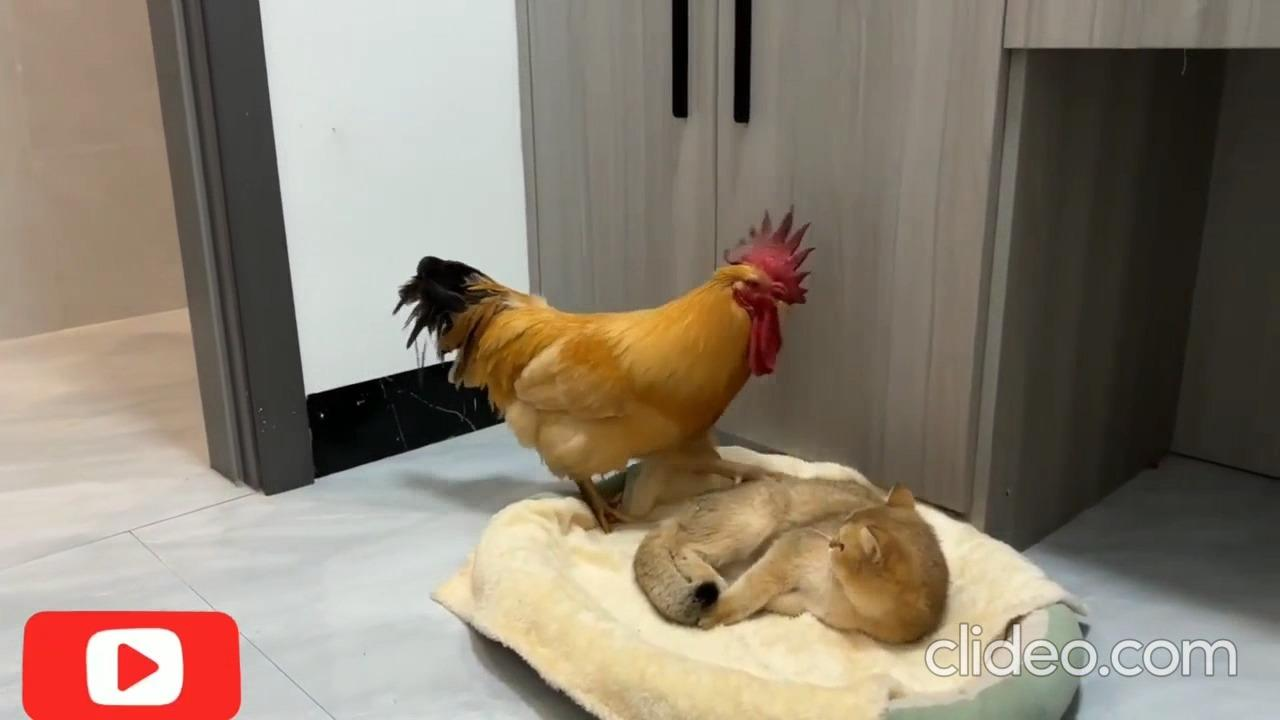Normal: (409, 217, 811, 462)
